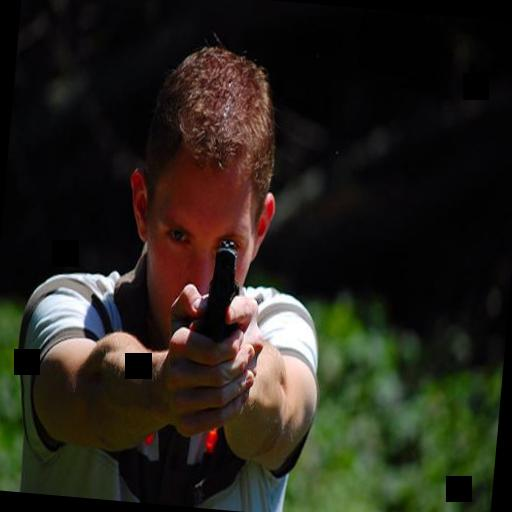Handgun: (204, 237, 242, 339)
